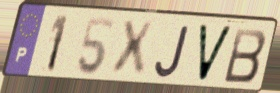1: (46, 13, 71, 76)
5: (78, 15, 118, 79)
B: (222, 26, 269, 85)
J: (154, 24, 192, 80)
V: (197, 22, 235, 85)
X: (110, 20, 156, 79)
